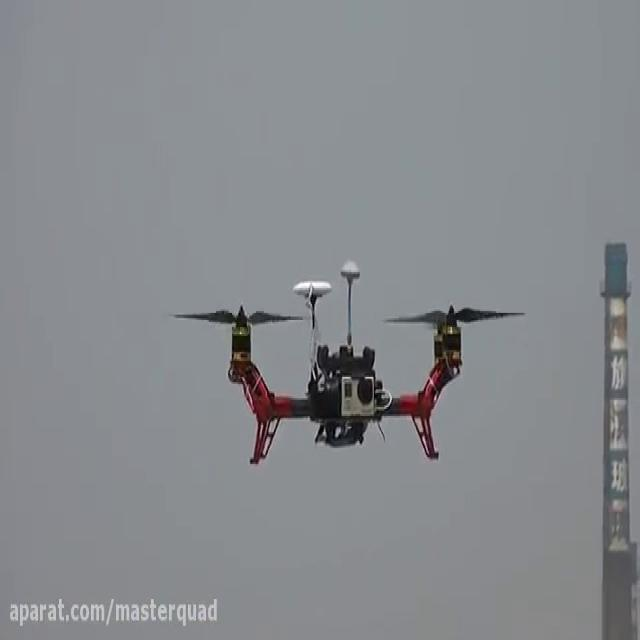drone: (165, 256, 529, 466)
